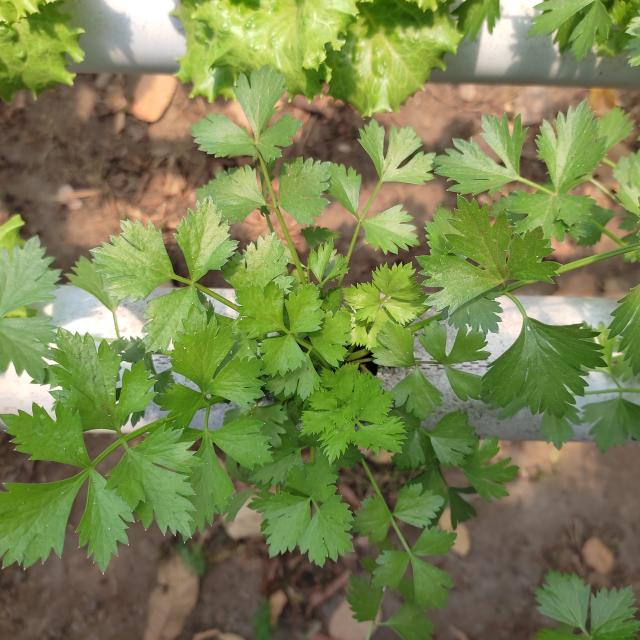Wet Waste: (16, 122, 617, 574)
